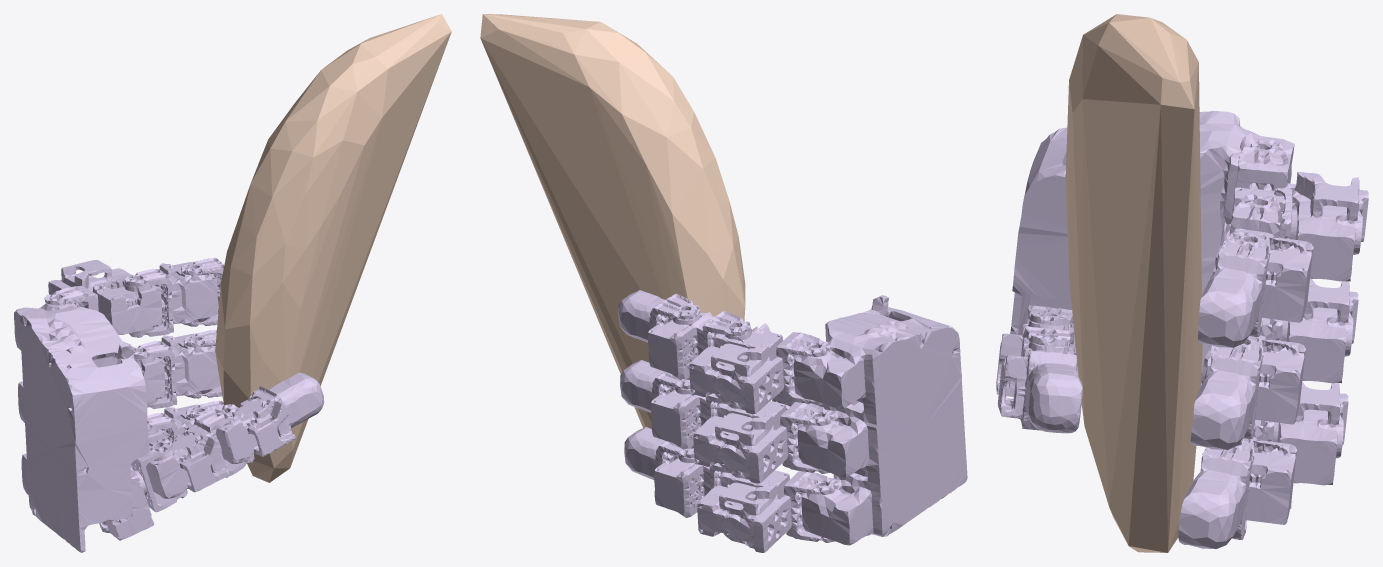
The model's file is 55af7a30345afc-closed.glb.
3 views of the same model, side by side, from view 1: azimuth 30°, elevation 25°; view 2: azimuth 150°, elevation 25°; view 3: azimuth 270°, elevation 25° (orthographic). The views are drawn at different scales.
Parts seen in each view (by area): view 1: LEAP_hand, world; view 2: LEAP_hand, world; view 3: LEAP_hand, world.
Part boxes in pixels (x1=…): LEAP_hand: x1=14, y1=258, x2=324, y2=552; world: x1=215, y1=14, x2=451, y2=482; LEAP_hand: x1=618, y1=290, x2=967, y2=552; world: x1=480, y1=14, x2=745, y2=428; LEAP_hand: x1=996, y1=111, x2=1368, y2=549; world: x1=1065, y1=14, x2=1202, y2=552.
Size of the model in its own units: 0.284 by 0.2662 by 0.1491.
